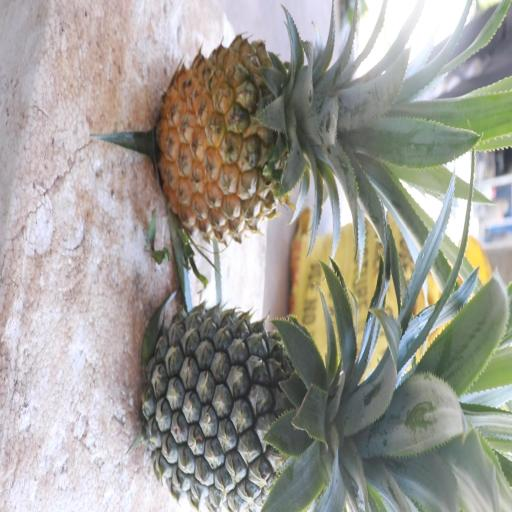Pineapple - v8 v1: (158, 42, 433, 249)
